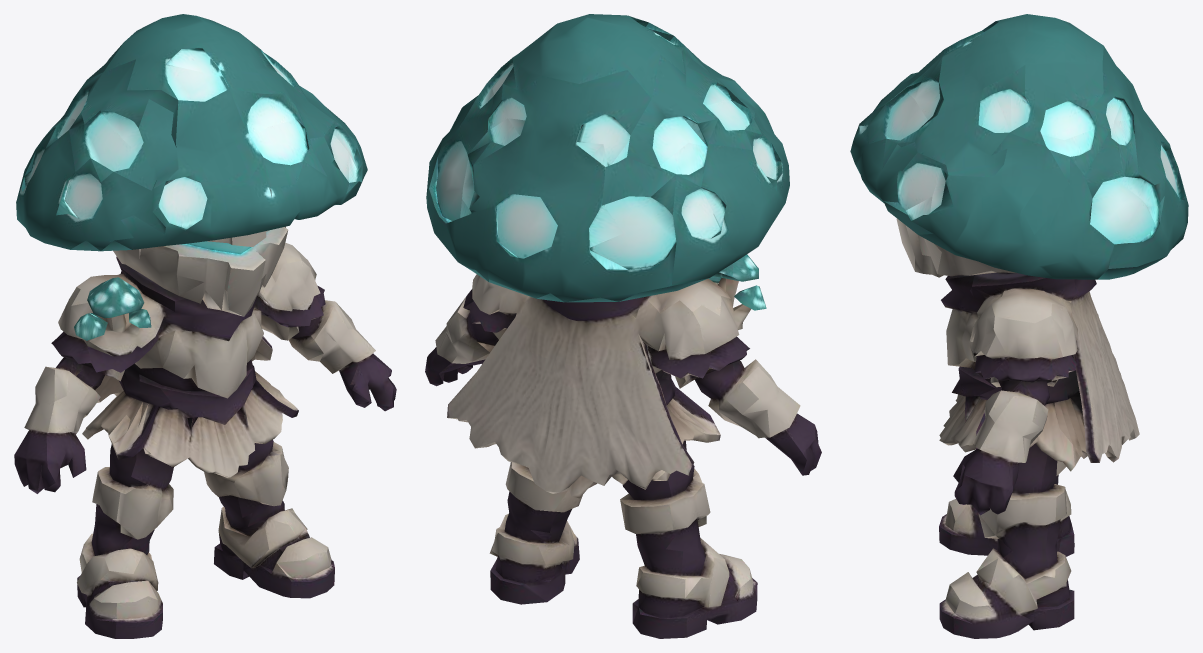
File: chevalier_champignon_statique.glb
The picture shows the model from 3 angles, left to right: view 1: azimuth 30°, elevation 25°; view 2: azimuth 150°, elevation 25°; view 3: azimuth 270°, elevation 25°; orthographic projection. The views are drawn at different scales.
Visible parts, largest first — view 1: geometry_0; view 2: geometry_0; view 3: geometry_0.
Boxes of the visible parts, x1,y1,x2,y2 form: geometry_0: (14,14,396,638); geometry_0: (425,14,821,638); geometry_0: (850,14,1188,638).
Size of the model in its own units: 0.6915 by 0.9999 by 0.5477.
1 material, 1 textured.
